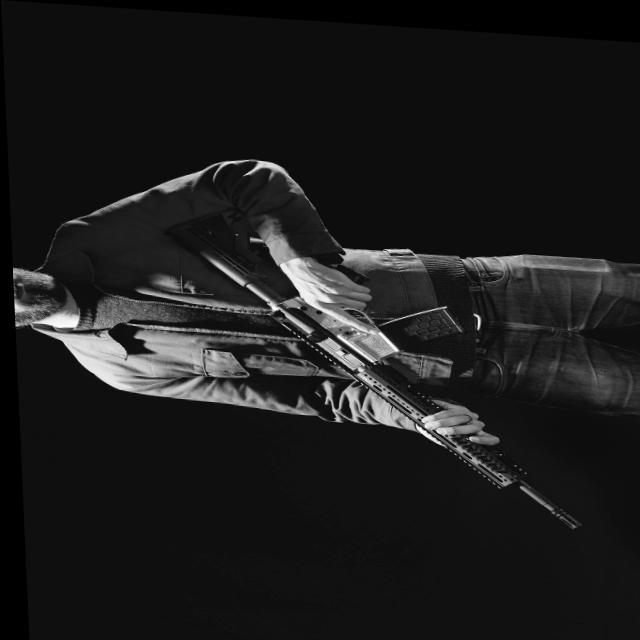handgun: (182, 229, 573, 524)
